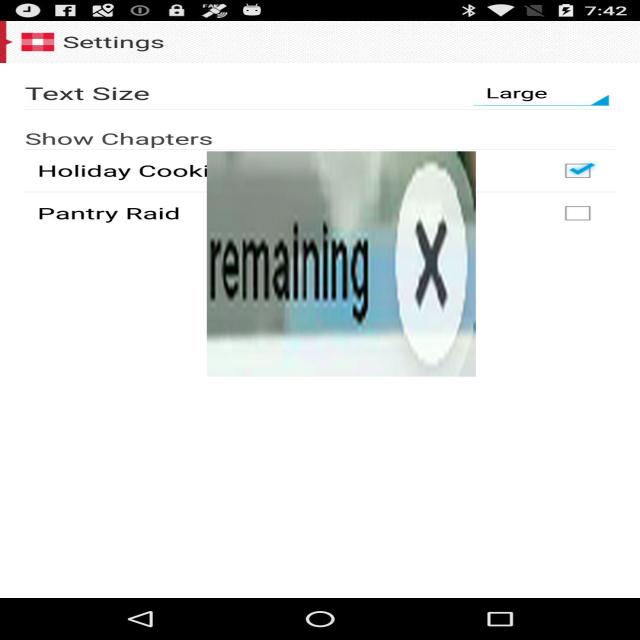misdirection: (207, 151, 476, 377)
